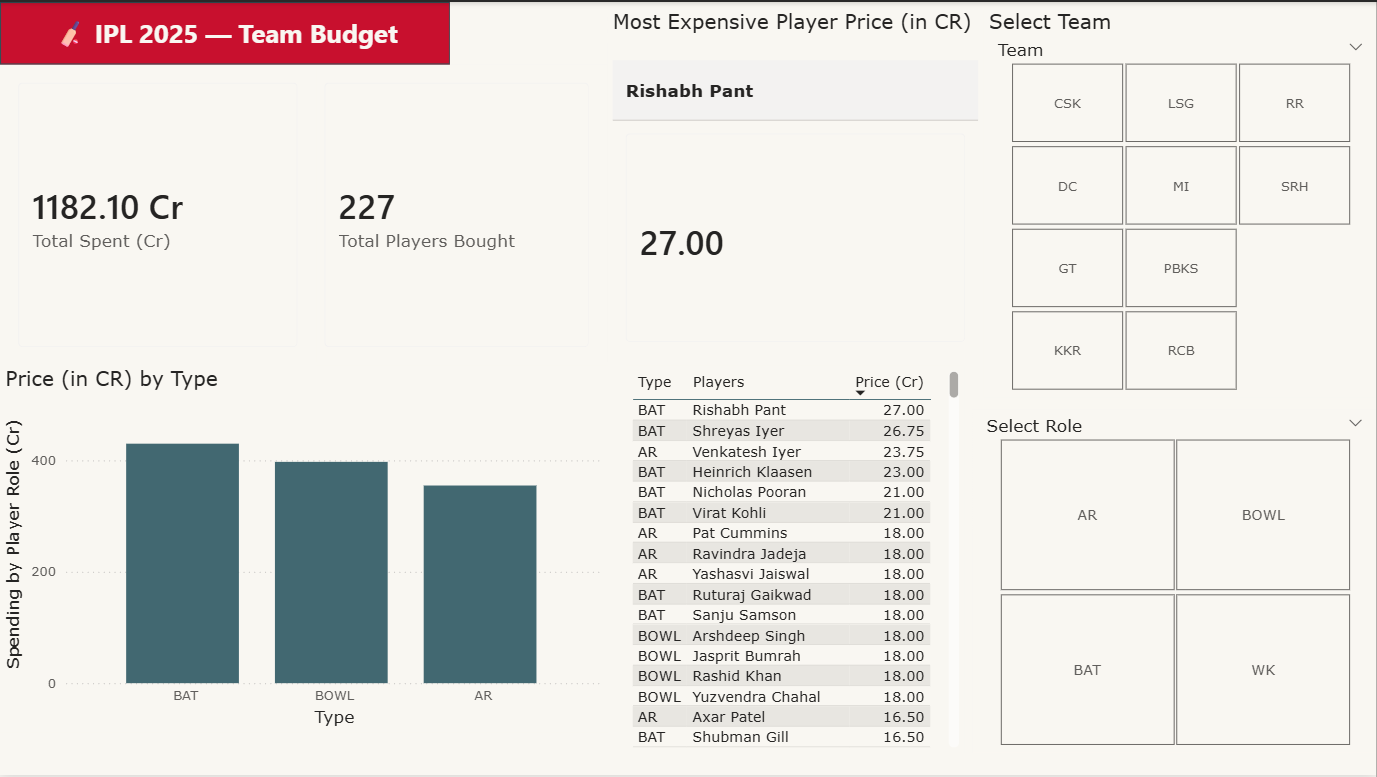

This screenshot's page, from the dashboard's own definition file:
{"tool":"powerbi","page":{"name":"Team Budget","canvas":[1280,720],"ordinal":2},"visuals":[{"type":"cardVisual","fields":{"Data":["ipl_2025_auction_players.Total Players Bought"]},"box":[284.9,58.1,280.2,280.2],"z":0},{"type":"cardVisual","title":"Most Expensive Player Price (in CR)","fields":{"Rows":["ipl_2025_auction_players.Players"],"Data":["Sum(ipl_2025_auction_players.Sold)"]},"box":[565.1,7,350,346.5],"z":1000},{"type":"clusteredColumnChart","title":"Price (in CR) by Type","fields":{"Category":["ipl_2025_auction_players.Type"],"Y":["ipl_2025_auction_players.Price (Cr)"]},"box":[0,338.3,565.4,340.7],"z":2000},{"type":"tableEx","fields":{"Values":["ipl_2025_auction_players.Type","ipl_2025_auction_players.Players","ipl_2025_auction_players.Price (Cr)"]},"box":[582.1,338.3,314.4,359.8],"z":3000},{"type":"slicer","title":"Select Team","fields":{"Values":["ipl_2025_auction_players.Team"]},"box":[915.1,7,365.1,360.5],"z":4000},{"type":"slicer","title":"Select Role","fields":{"Values":["ipl_2025_auction_players.Type"]},"box":[904.9,378.9,375.3,319.2],"z":5000},{"type":"cardVisual","fields":{"Data":["ipl_2025_auction_players.Total Spent Display"]},"box":[0,58.1,294.2,280.2],"z":6000},{"type":"shape","box":[0,0,418.6,58.1],"z":6001}]}

Visuals, with their boxes in screenshot pixels (x1, y1, x2, y2), scaled from the page's 1280x720 canvas onto the 1377x777 screenshot:
cardVisual - ipl_2025_auction_players.Total Players Bought: bbox=(306, 63, 608, 365)
"Most Expensive Player Price (in CR)" cardVisual: bbox=(608, 8, 984, 381)
"Price (in CR) by Type" clusteredColumnChart: bbox=(0, 365, 608, 733)
tableEx - ipl_2025_auction_players.Type x ipl_2025_auction_players.Players: bbox=(626, 365, 964, 753)
"Select Team" slicer: bbox=(984, 8, 1376, 397)
"Select Role" slicer: bbox=(973, 409, 1376, 753)
cardVisual - ipl_2025_auction_players.Total Spent Display: bbox=(0, 63, 316, 365)
shape: bbox=(0, 0, 450, 63)
